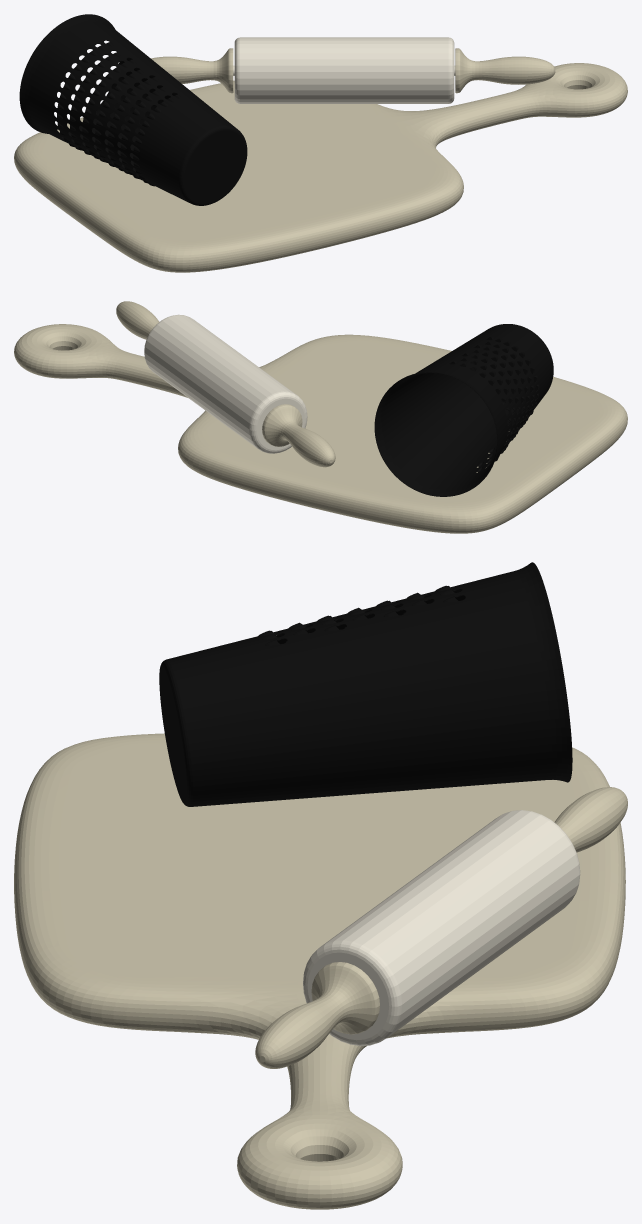
Rendered from deska do szafkaa.fbx.
The picture shows the model from 3 angles, top to bottom: view 1: azimuth 30°, elevation 25°; view 2: azimuth 150°, elevation 25°; view 3: azimuth 270°, elevation 25°; orthographic projection. The views are drawn at different scales.
Visible parts, largest first — view 1: 37 Cookin1, 37 Cookin0, 37 Cooking; view 2: 37 Cookin1, 37 Cookin0, 37 Cooking; view 3: 37 Cookin1, 37 Cookin0, 37 Cooking.
Part boxes in pixels (left/top/right/bottom): 37 Cookin1: left=14, top=63, right=627, bottom=272; 37 Cookin0: left=19, top=14, right=247, bottom=205; 37 Cooking: left=151, top=37, right=555, bottom=103; 37 Cookin1: left=14, top=324, right=627, bottom=533; 37 Cookin0: left=374, top=324, right=553, bottom=496; 37 Cooking: left=116, top=301, right=335, bottom=467; 37 Cookin1: left=14, top=733, right=625, bottom=1209; 37 Cookin0: left=159, top=562, right=572, bottom=806; 37 Cooking: left=255, top=787, right=627, bottom=1068.
Size of the model in its own units: 40.48 by 10.34 by 23.22.
